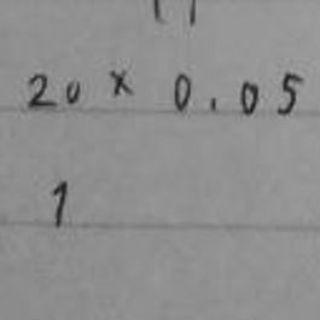.: (203, 94, 222, 114)
0: (172, 71, 193, 112), (238, 79, 261, 116), (63, 77, 83, 107)
1: (50, 179, 69, 228)
2: (24, 71, 59, 110)
5: (276, 70, 305, 116)
